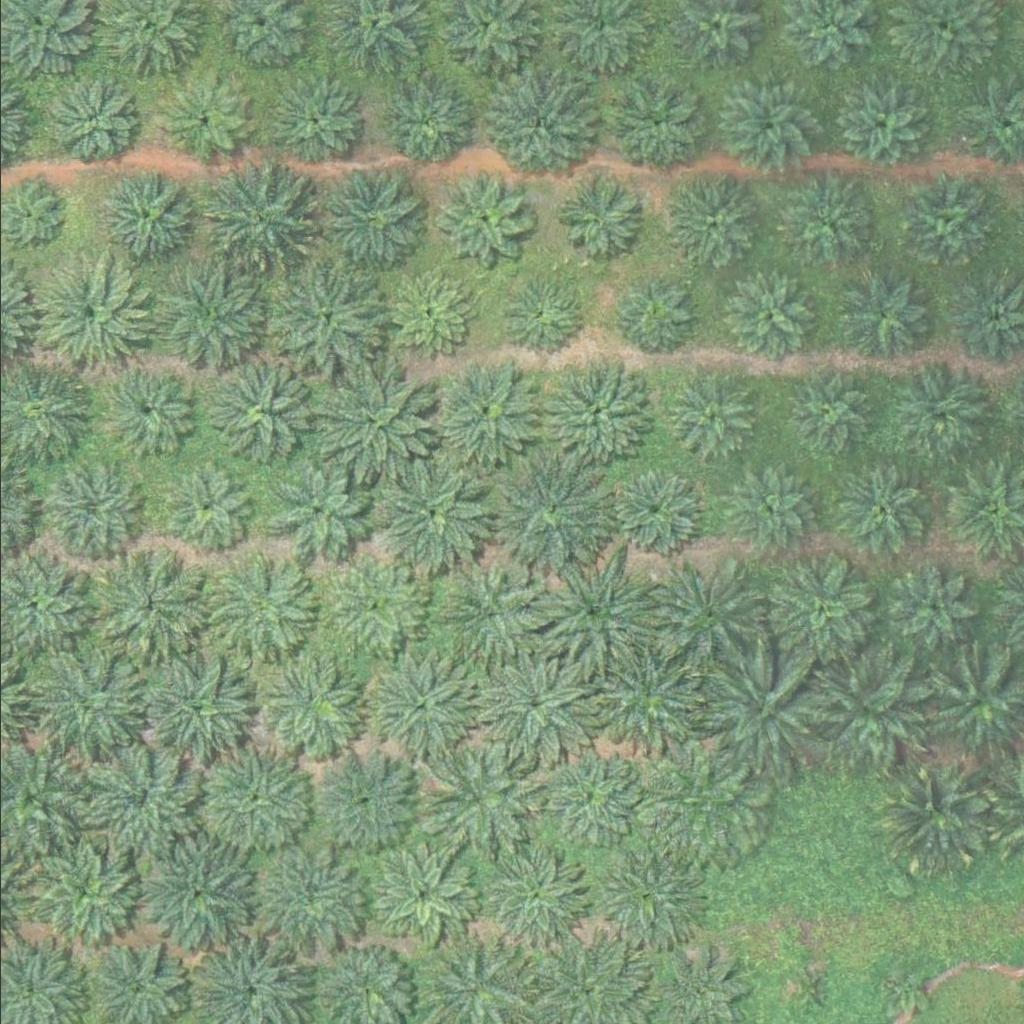Kelapa_Sawit: (644, 746, 758, 859), (812, 658, 926, 771), (705, 658, 819, 771), (482, 69, 596, 182), (312, 166, 426, 279), (199, 158, 313, 271), (91, 164, 204, 277), (29, 256, 142, 369), (540, 355, 653, 468), (424, 356, 537, 469), (491, 459, 604, 572), (373, 457, 486, 570), (201, 553, 314, 666), (92, 545, 205, 658), (591, 638, 704, 751), (529, 741, 642, 854), (422, 745, 535, 858), (308, 742, 421, 855), (254, 845, 367, 958), (144, 837, 257, 950), (23, 839, 136, 952), (24, 650, 137, 763), (267, 264, 381, 376), (155, 261, 269, 373), (87, 358, 201, 470), (596, 836, 710, 948), (481, 840, 595, 952), (885, 761, 998, 873), (762, 554, 875, 666), (648, 561, 761, 673), (713, 71, 826, 183), (318, 365, 431, 477), (205, 359, 318, 471), (533, 556, 646, 668), (431, 558, 544, 670), (472, 647, 585, 759), (361, 648, 474, 760), (137, 653, 250, 765), (194, 741, 307, 853), (82, 742, 195, 854), (833, 462, 934, 562), (888, 363, 989, 463), (833, 267, 934, 367), (776, 172, 877, 272), (663, 173, 764, 273), (826, 73, 927, 173), (268, 458, 369, 558), (322, 554, 423, 654), (262, 654, 363, 754), (375, 844, 476, 944), (377, 71, 477, 171), (263, 71, 363, 171), (431, 168, 531, 268), (40, 461, 140, 561), (725, 464, 813, 552), (608, 469, 696, 557), (783, 366, 871, 454), (43, 76, 131, 164), (552, 175, 640, 263), (498, 273, 586, 361), (384, 270, 472, 358), (665, 373, 754, 460), (725, 273, 814, 360), (890, 564, 978, 651), (904, 179, 992, 266), (613, 81, 701, 168), (159, 76, 247, 163), (610, 271, 698, 358), (162, 467, 250, 554), (882, 973, 920, 1010), (791, 969, 829, 1006)
